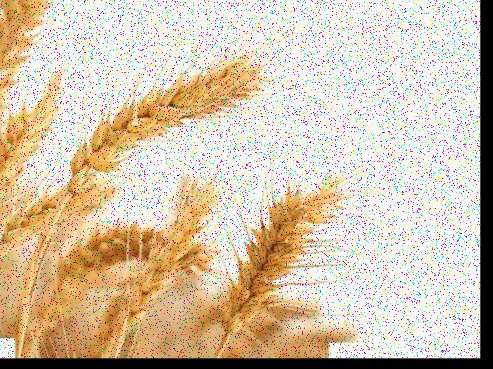wheat: (59, 42, 272, 203), (221, 172, 343, 343)
